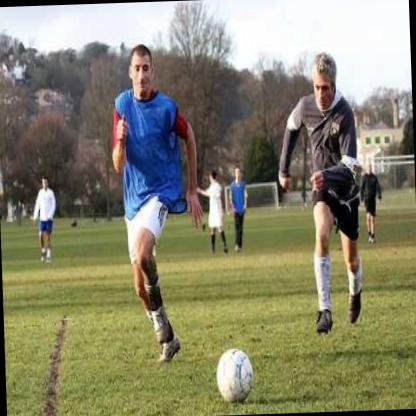ball: (216, 348, 256, 405)
